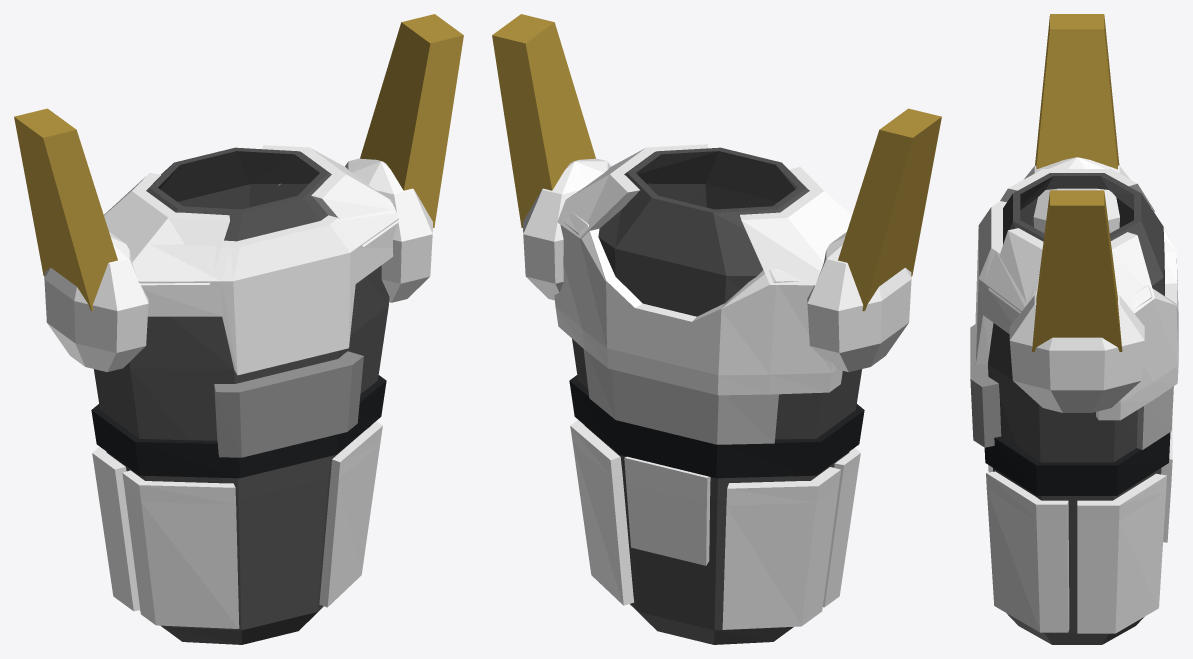
Rendered from person_male_armor_recon_prestige.obj.
3 renders of one model, left to right at view 1: azimuth 30°, elevation 25°; view 2: azimuth 150°, elevation 25°; view 3: azimuth 270°, elevation 25°, orthographic. The views are drawn at different scales.
Visible parts, largest first — view 1: object 2, person_male_armor_recon_prestige_addons; view 2: object 2, person_male_armor_recon_prestige_addons; view 3: object 2, person_male_armor_recon_prestige_addons.
Boxes of the visible parts, bbox=[...] form: object 2: bbox=[44, 145, 433, 644]; person_male_armor_recon_prestige_addons: bbox=[14, 14, 463, 311]; object 2: bbox=[522, 144, 911, 644]; person_male_armor_recon_prestige_addons: bbox=[492, 14, 941, 311]; object 2: bbox=[970, 157, 1178, 644]; person_male_armor_recon_prestige_addons: bbox=[1032, 14, 1122, 351].
Size of the model in its own units: 0.7516 by 0.92 by 0.3449.
